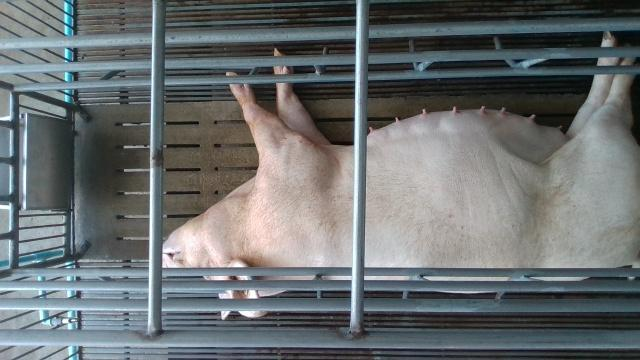sow-sleep-lactate: (163, 30, 640, 319)
